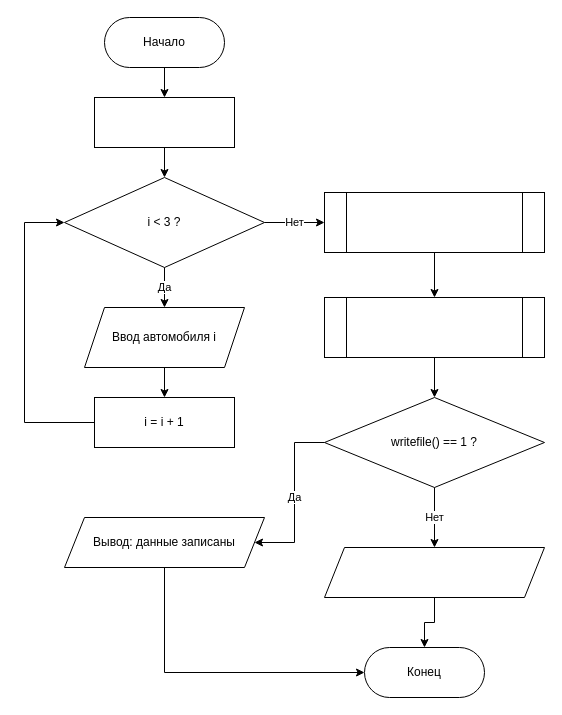
The diagram is 562 pixels wide and 715 high, and some of its shapes have lost their labels. The centre of each missing label's shape, as x and y in pixels:
i = 0: point (164, 122)
process_cars(cars, 3) вывод Ford до 2000 г.: point (434, 222)
writefile("cars.txt", cars, 3): point (434, 327)
Вывод: ошибка записи: point (434, 572)
